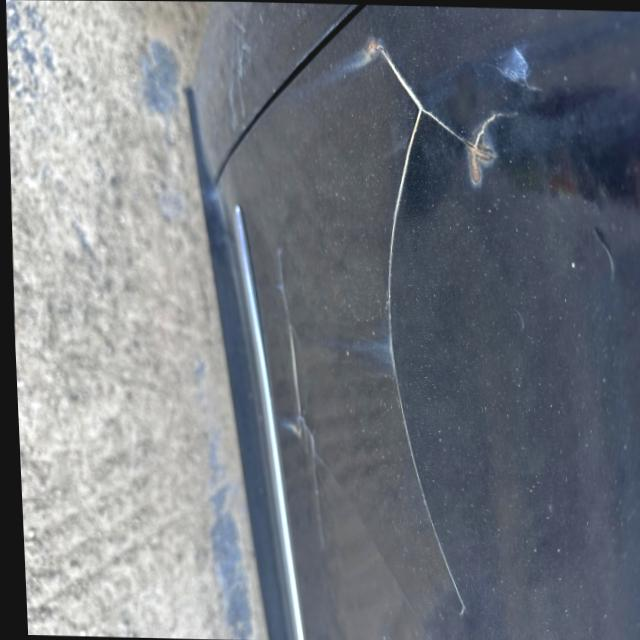Paint-Crack: (356, 25, 505, 620)
